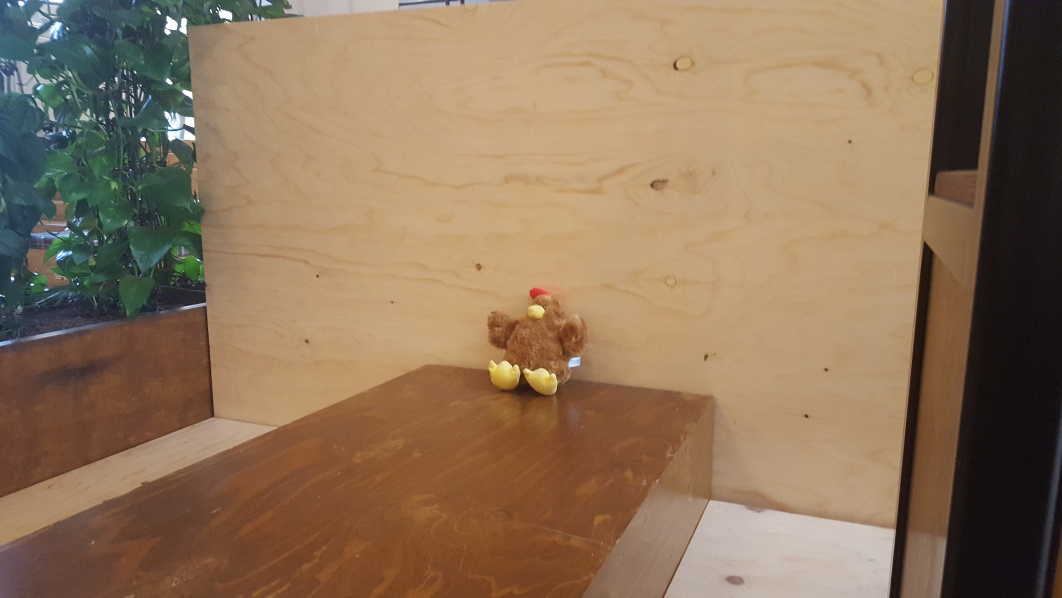chicken: (484, 286, 590, 399)
